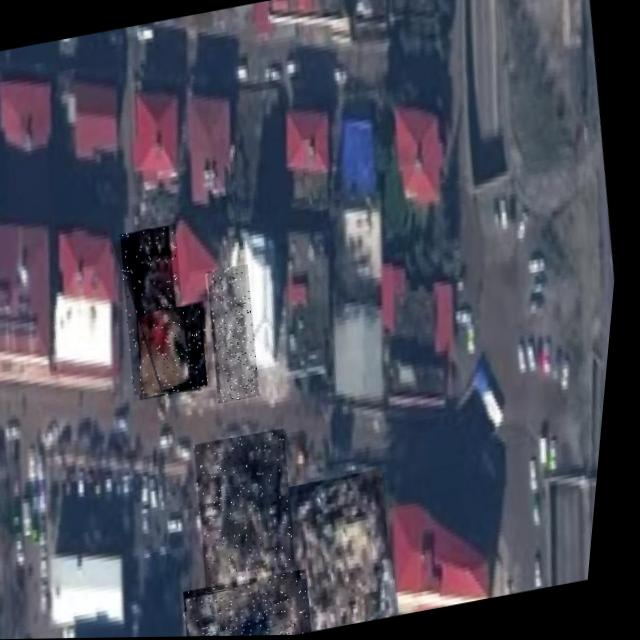Rubble: (285, 469, 418, 635), (191, 428, 318, 596), (111, 224, 207, 396), (202, 264, 276, 404), (190, 569, 327, 637), (132, 301, 224, 401)
